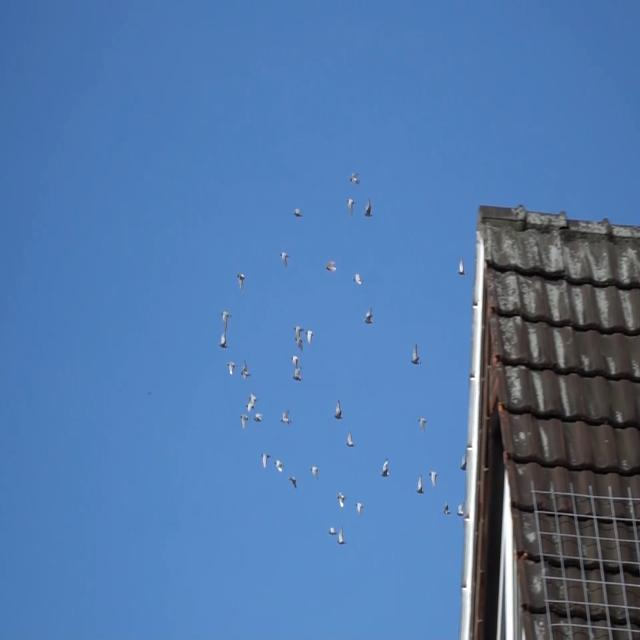bird: (410, 342, 422, 366), (220, 309, 233, 331), (235, 270, 246, 292), (218, 328, 229, 350), (240, 358, 251, 380), (336, 525, 348, 545), (333, 398, 343, 421), (226, 359, 238, 378), (279, 409, 292, 426), (416, 474, 426, 496), (344, 429, 356, 447), (428, 470, 440, 488), (336, 490, 347, 509), (348, 170, 361, 186), (352, 271, 364, 288), (308, 464, 320, 481), (280, 248, 290, 268), (456, 256, 466, 276), (362, 197, 373, 215), (304, 328, 315, 346), (260, 451, 271, 469), (326, 258, 338, 274), (291, 366, 303, 382), (418, 415, 428, 434), (345, 198, 356, 215), (364, 307, 374, 325), (292, 336, 304, 351), (381, 458, 390, 478), (354, 501, 366, 516), (240, 413, 250, 430), (273, 458, 283, 474), (442, 500, 452, 516), (288, 476, 298, 490), (244, 401, 255, 413), (290, 354, 300, 367), (328, 524, 338, 537), (247, 393, 259, 403), (252, 412, 264, 422), (294, 324, 302, 338), (293, 208, 303, 219)
